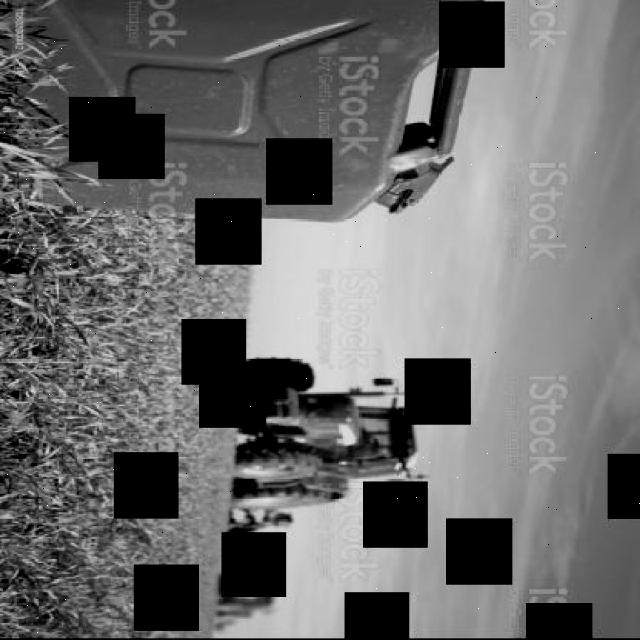Tratores - v5 YOLO V8L 2024-11-13: (217, 329, 451, 531)
